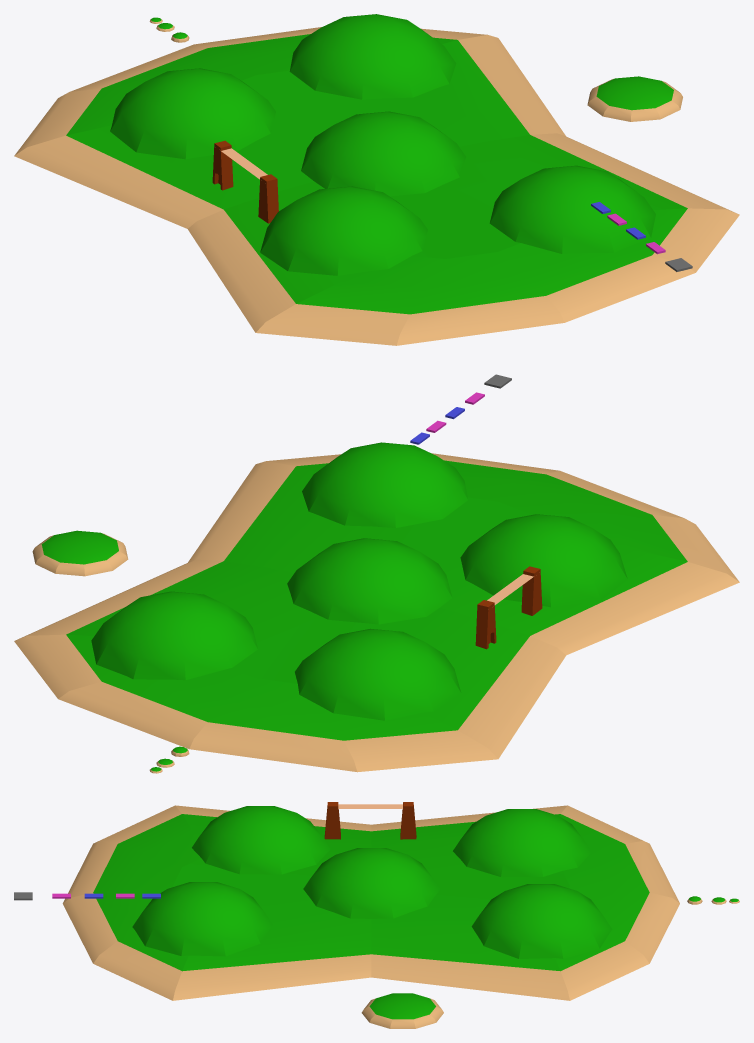
The model's file is Beach.fbx.
3 renders of one model, top to bottom at view 1: azimuth 30°, elevation 25°; view 2: azimuth 150°, elevation 25°; view 3: azimuth 270°, elevation 25°, orthographic. The views are drawn at different scales.
Visible parts, largest first — view 1: Sphere.003, Sphere.005, Sphere.007, Sphere.008, Sphere.004, Sphere.006, Sphere.009, Cube.005; view 2: Sphere.003, Sphere.007, Sphere.008, Sphere.004, Sphere.005, Sphere.006, Sphere.009, Cube.005; view 3: Sphere.003, Sphere.008, Sphere.004, Sphere.006, Sphere.005, Sphere.007, Sphere.009, Cube.005.
Part boxes in pixels (x1=…): Sphere.003: x1=14, y1=27, x2=739, y2=345; Sphere.005: x1=260, y1=186, x2=427, y2=275; Sphere.007: x1=110, y1=68, x2=275, y2=159; Sphere.008: x1=289, y1=14, x2=456, y2=99; Sphere.004: x1=489, y1=165, x2=655, y2=253; Sphere.006: x1=301, y1=111, x2=465, y2=196; Sphere.009: x1=587, y1=76, x2=682, y2=121; Cube.005: x1=212, y1=140, x2=278, y2=223; Sphere.003: x1=14, y1=453, x2=739, y2=772; Sphere.007: x1=295, y1=628, x2=461, y2=720; Sphere.008: x1=91, y1=591, x2=257, y2=680; Sphere.004: x1=302, y1=442, x2=468, y2=527; Sphere.005: x1=460, y1=514, x2=627, y2=607; Sphere.006: x1=287, y1=538, x2=452, y2=624; Sphere.009: x1=32, y1=530, x2=128, y2=576; Cube.005: x1=475, y1=566, x2=542, y2=649; Sphere.003: x1=62, y1=805, x2=679, y2=1000; Sphere.008: x1=471, y1=884, x2=612, y2=958; Sphere.004: x1=132, y1=882, x2=272, y2=956; Sphere.006: x1=303, y1=848, x2=440, y2=918; Sphere.005: x1=192, y1=806, x2=330, y2=874; Sphere.007: x1=453, y1=809, x2=591, y2=877; Sphere.009: x1=361, y1=993, x2=443, y2=1028; Cube.005: x1=324, y1=802, x2=416, y2=839.
Size of what is drawn, in the model's own units: 67617 by 7237 by 92362.
